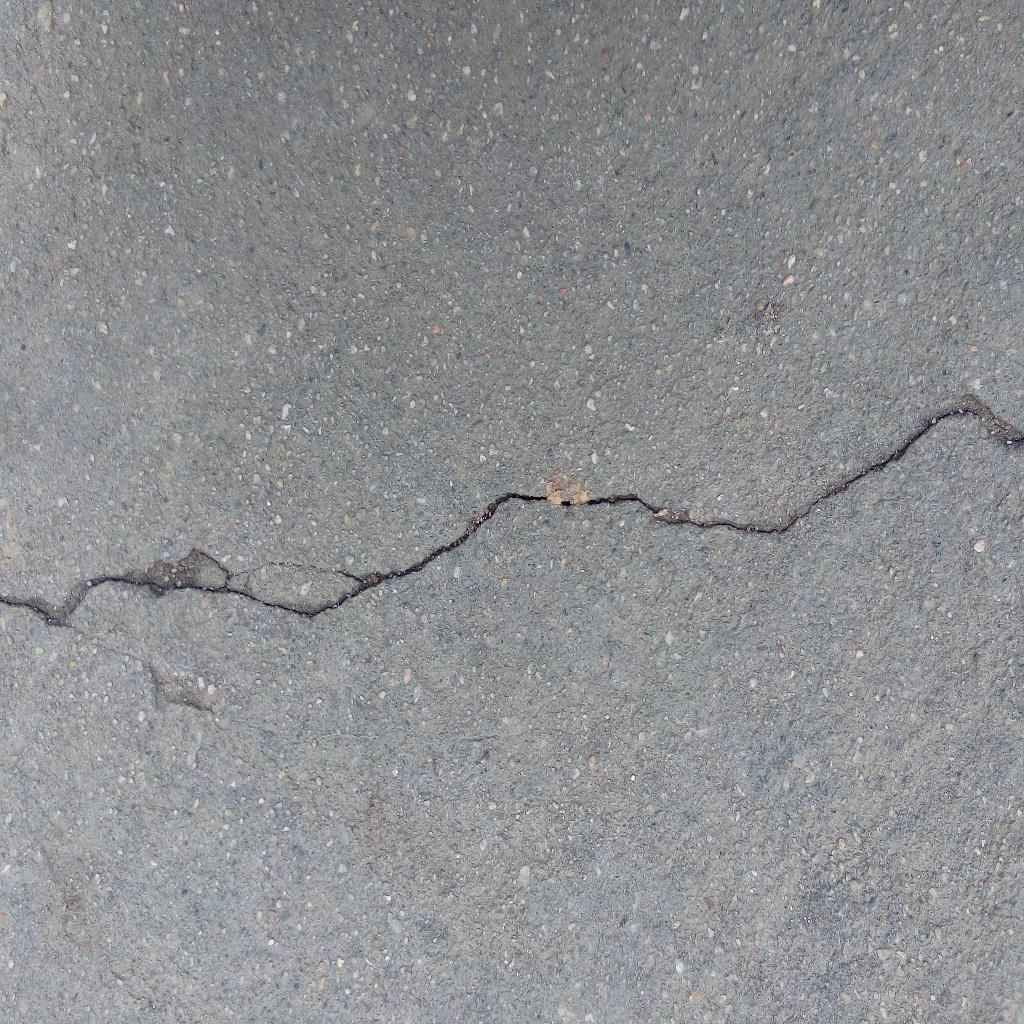Crack: (1, 400, 1024, 628)
Spalling: (147, 665, 228, 717)
